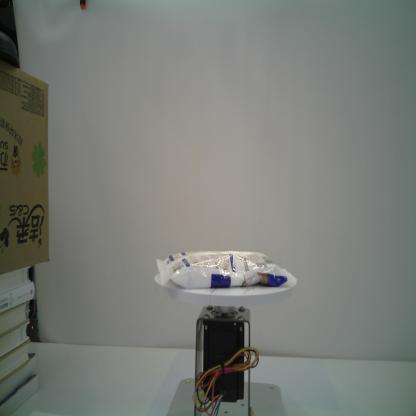Seasoner: (155, 247, 290, 292)
